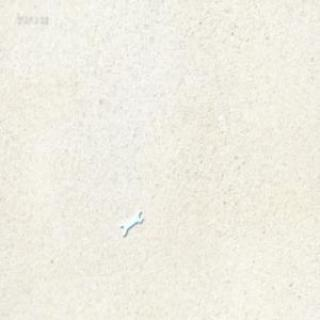Wrenchtrack_idkeyframe: (119, 208, 142, 236)
